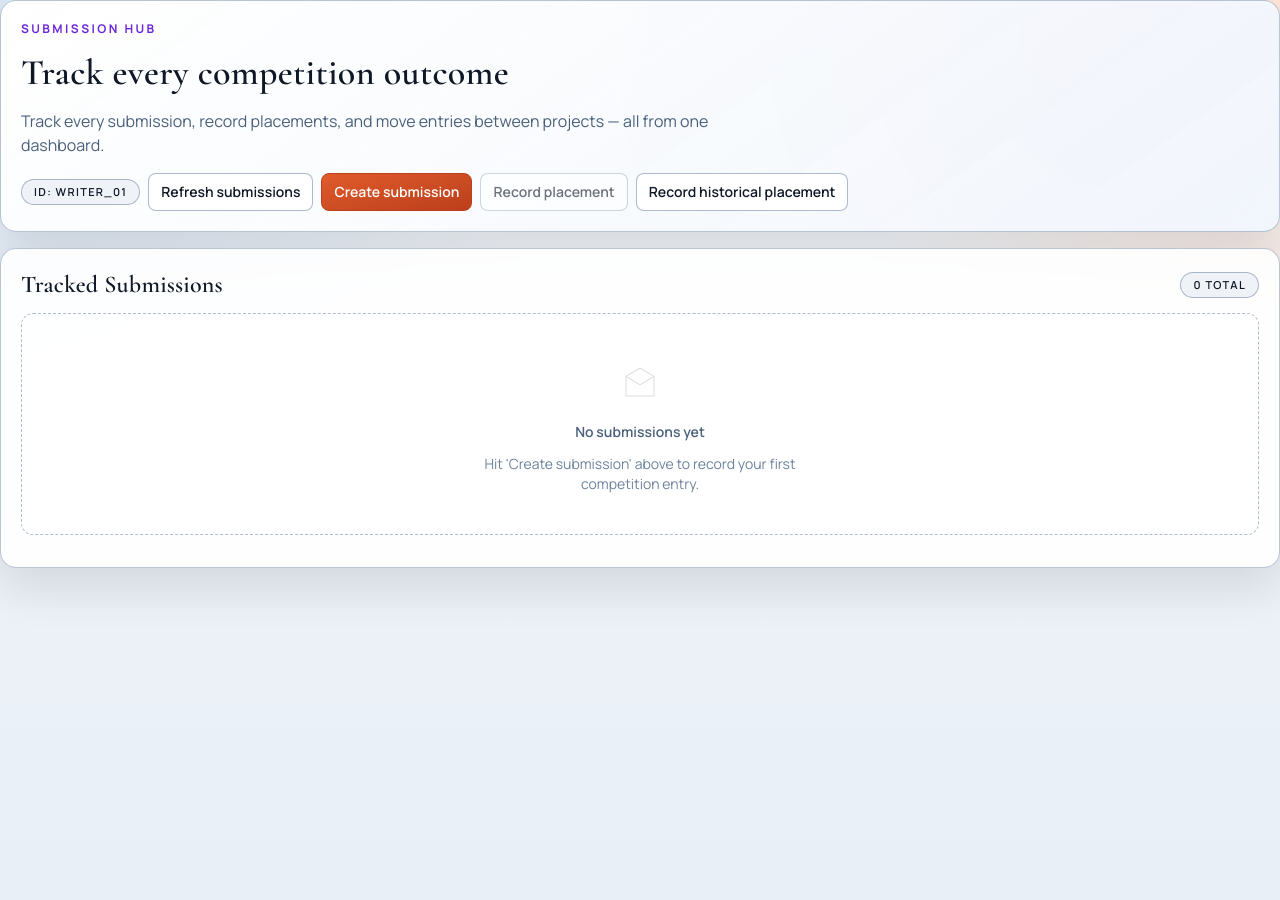
Test: SubmissionsPage › creates a submission and updates the cache without full refetch
Click the button "Create submission". click: (397, 192)
box: [322, 173, 472, 211]
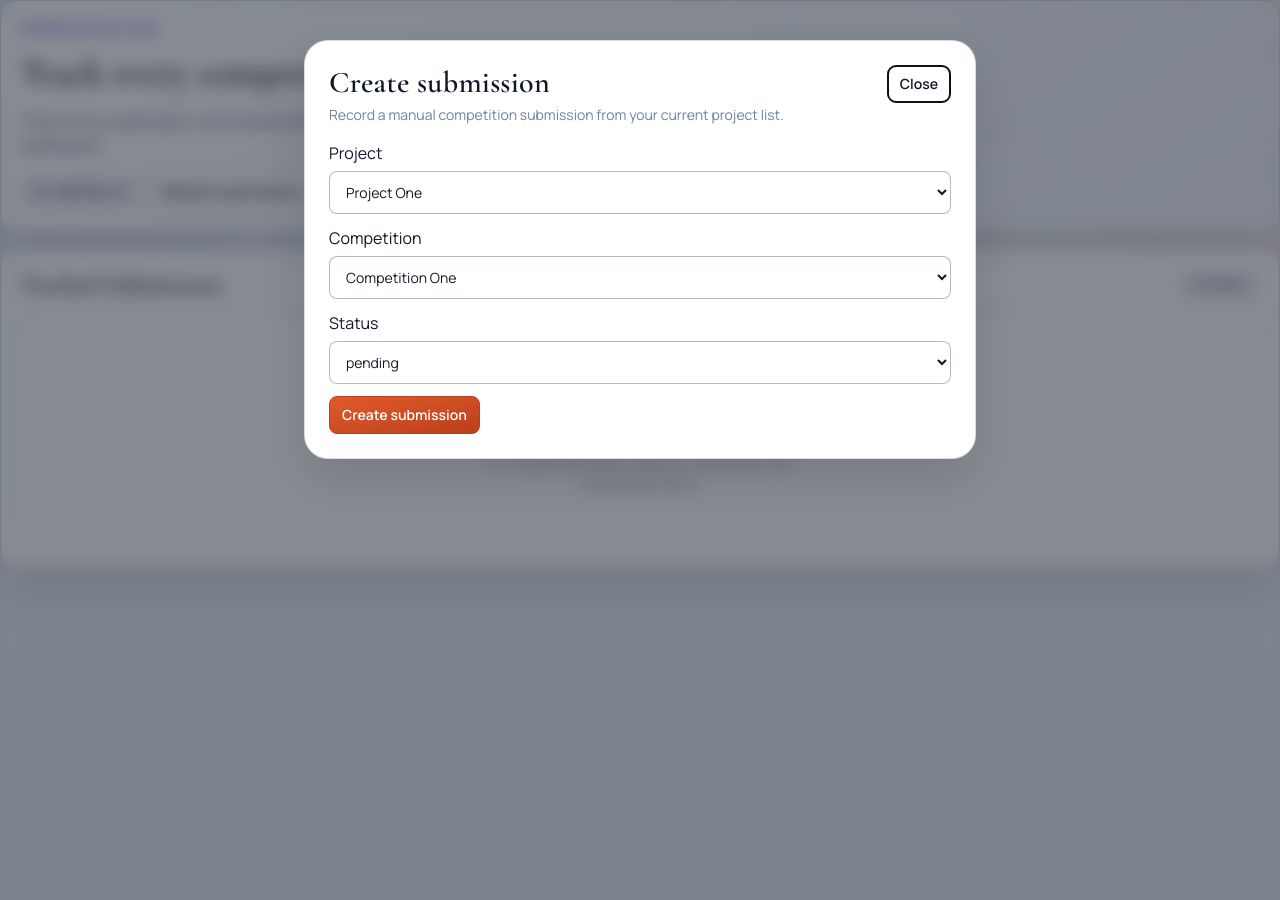
Click the button "Create submission". click: (404, 415)
box: [329, 396, 480, 434]
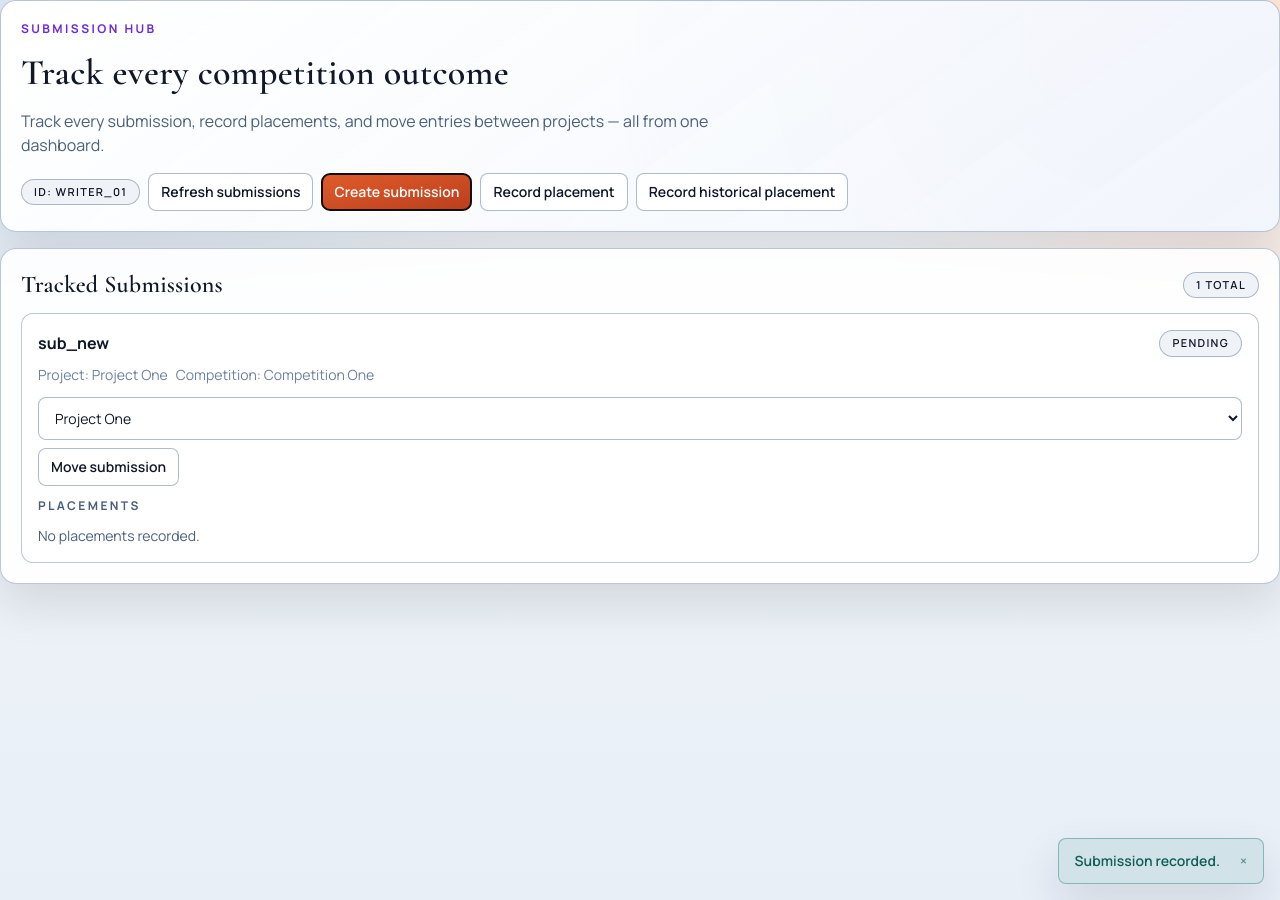
Expected: the text "sub_new" is shown, [38, 331, 109, 355]
Expected: the text "1 total" is shown, [1183, 272, 1259, 298]
